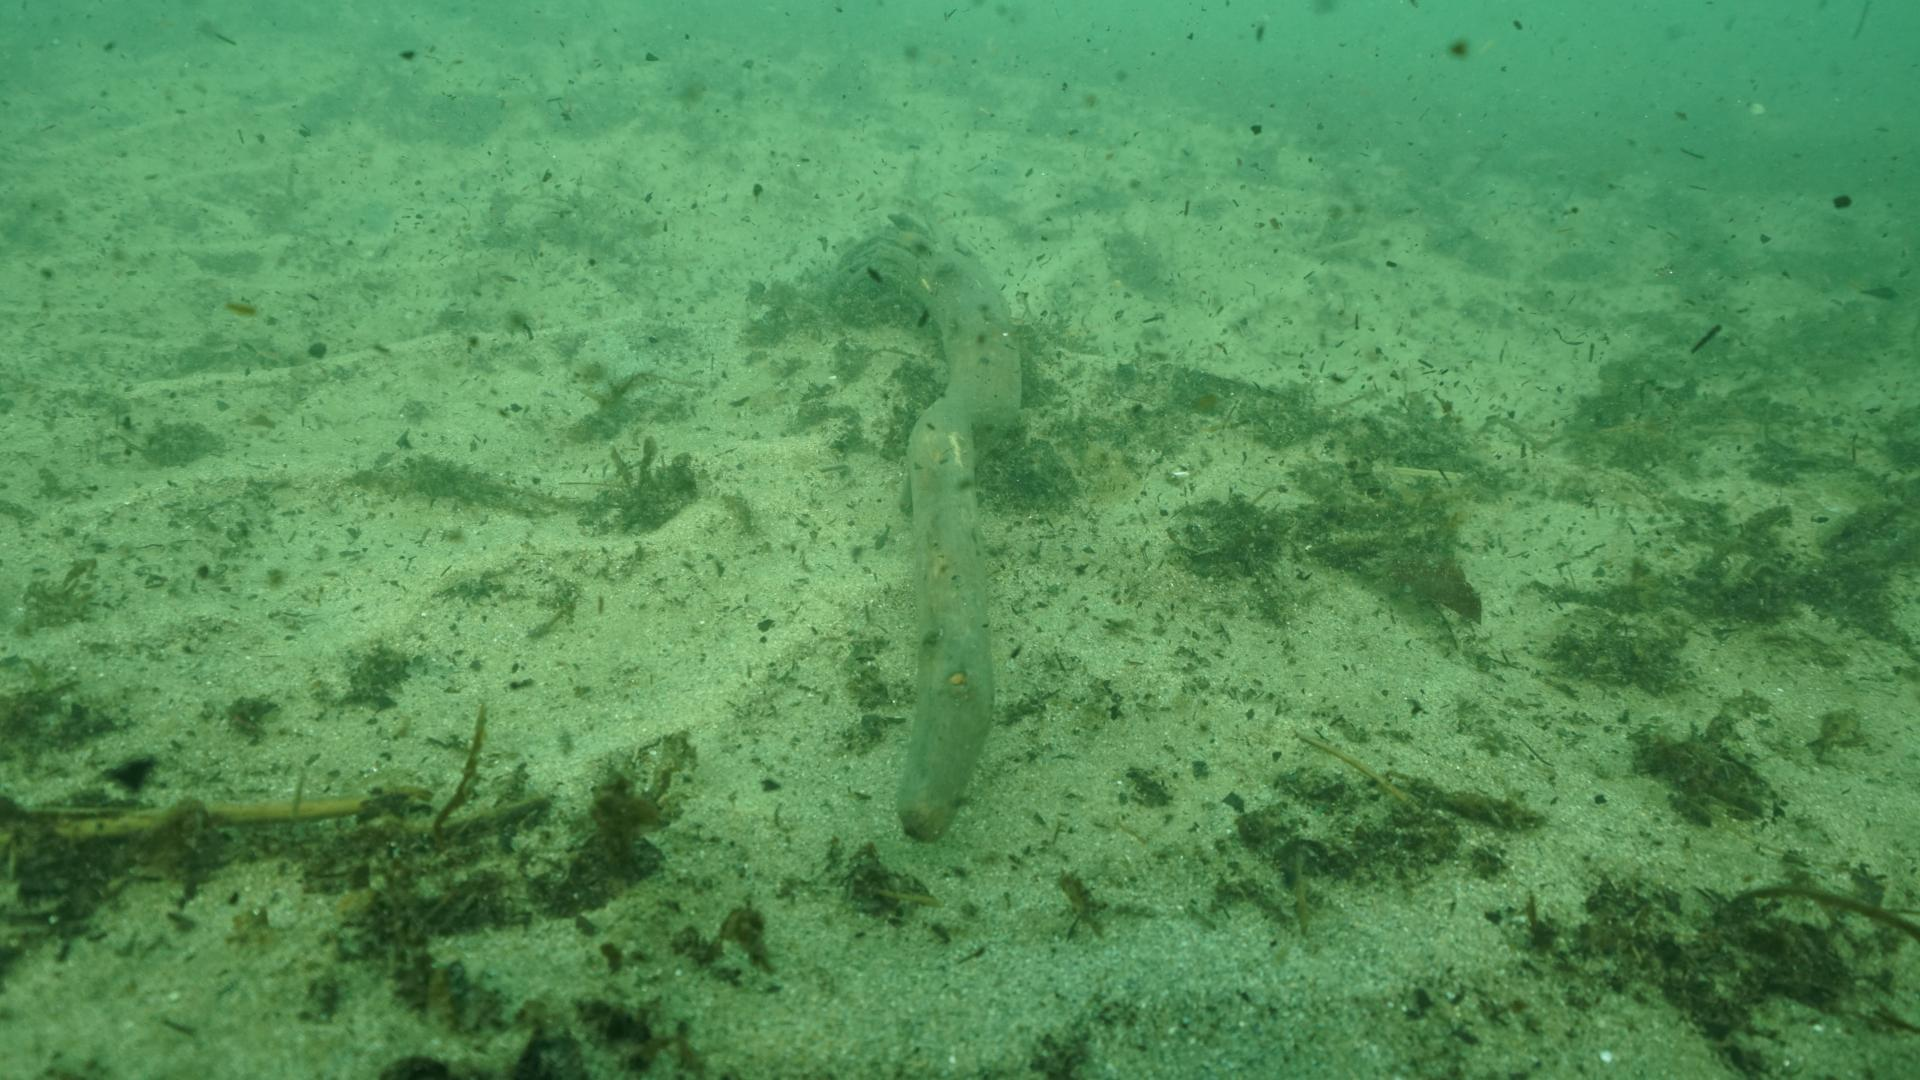wood: (839, 208, 1026, 840)
